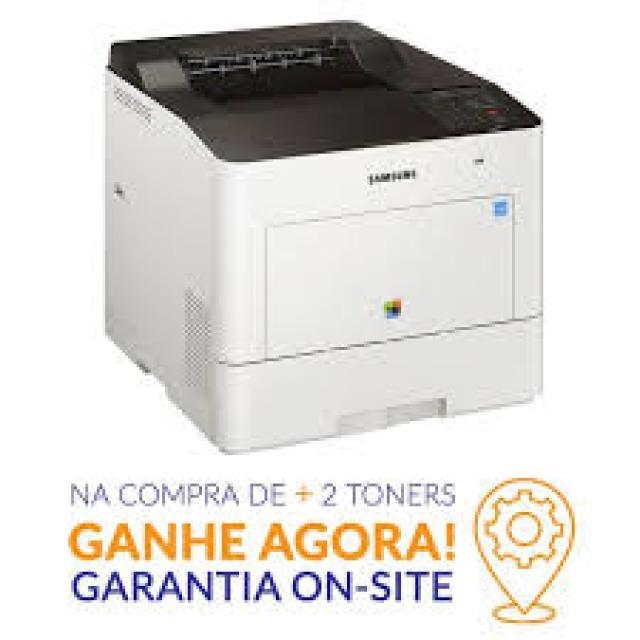printer: (92, 15, 557, 461)
